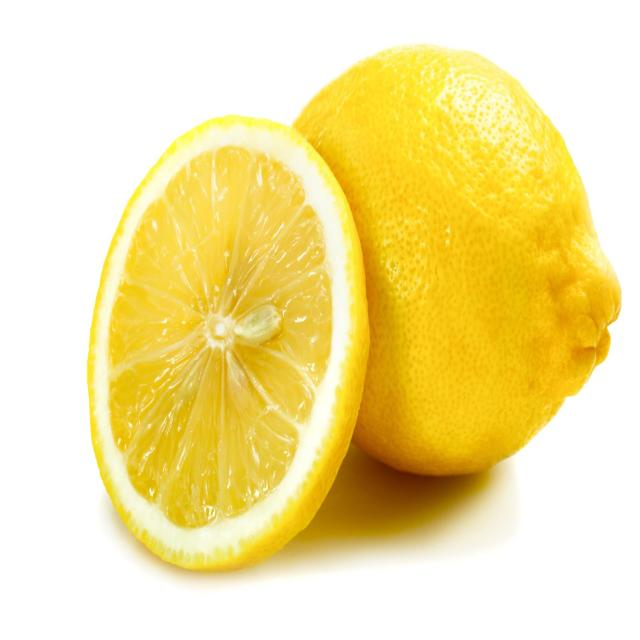lemon: (81, 31, 624, 583)
